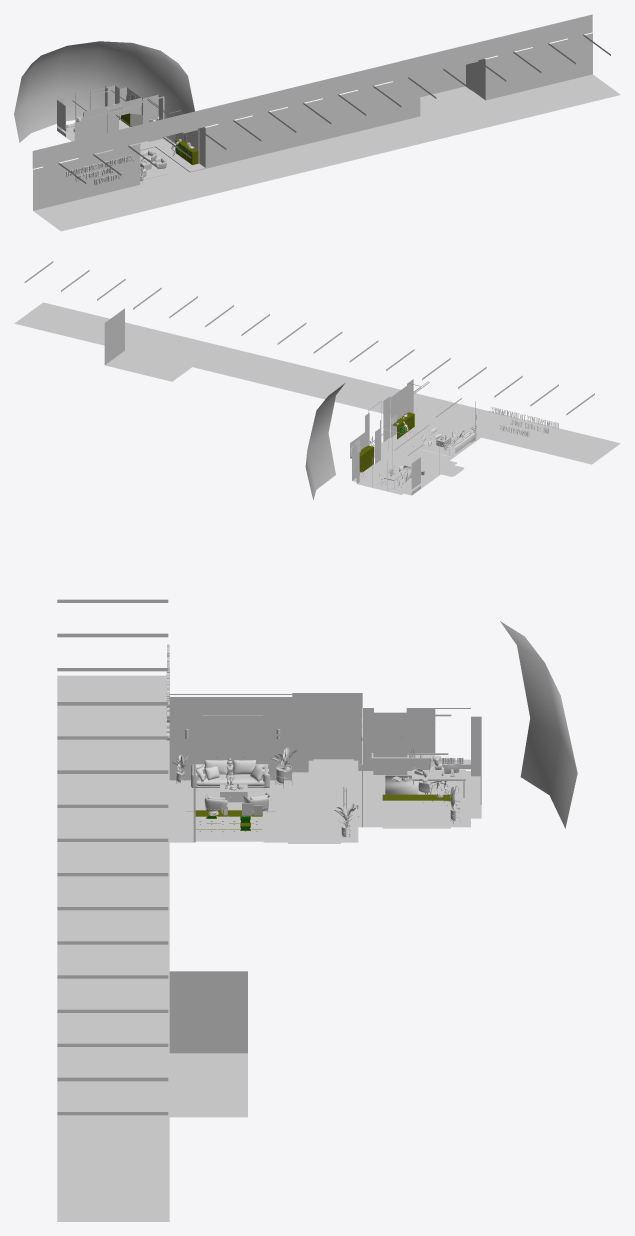
The model's file is Room_v1_1.glb.
3 renders of one model, top to bottom at view 1: azimuth 30°, elevation 25°; view 2: azimuth 150°, elevation 25°; view 3: azimuth 270°, elevation 25°, orthographic. The views are drawn at different scales.
Parts seen in each view (by area): view 1: Mat_3 Opaque_001, BG, Mat_1 Opaque_005, Mat_1 Opaque_004, Mat_3 Opaque_002, Mat_1 Alpha_001, Mat_2 Opaque_008, Mat_2 Opaque_026; view 2: Mat_3 Opaque_001, Mat_1 Opaque_004, Mat_1 Opaque_005, Mat_3 Opaque_002, Mat_2 Opaque_007; view 3: Mat_3 Opaque_001, Mat_1 Opaque_004, Mat_1 Opaque_005, Mat_2 Opaque_026, Mat_1 Opaque_002, Mat_2 Opaque_042, Mat_2 Opaque_007, Mat_2 Opaque_015.
Part boxes in pixels (bbox=[...]): Mat_3 Opaque_001: bbox=[33, 33, 620, 231]; BG: bbox=[32, 14, 592, 168]; Mat_1 Opaque_005: bbox=[14, 41, 194, 142]; Mat_1 Opaque_004: bbox=[57, 85, 205, 184]; Mat_3 Opaque_002: bbox=[66, 155, 133, 185]; Mat_1 Alpha_001: bbox=[84, 105, 141, 138]; Mat_2 Opaque_008: bbox=[175, 139, 198, 164]; Mat_2 Opaque_026: bbox=[57, 100, 83, 136]; Mat_3 Opaque_001: bbox=[14, 261, 620, 464]; Mat_1 Opaque_004: bbox=[350, 379, 480, 495]; Mat_1 Opaque_005: bbox=[305, 383, 344, 499]; Mat_3 Opaque_002: bbox=[489, 406, 558, 436]; Mat_2 Opaque_007: bbox=[420, 432, 465, 456]; Mat_3 Opaque_001: bbox=[57, 599, 247, 1221]; Mat_1 Opaque_004: bbox=[169, 693, 481, 843]; Mat_1 Opaque_005: bbox=[500, 621, 577, 828]; Mat_2 Opaque_026: bbox=[371, 712, 470, 774]; Mat_1 Opaque_002: bbox=[202, 715, 262, 751]; Mat_2 Opaque_042: bbox=[191, 760, 269, 787]; Mat_2 Opaque_007: bbox=[186, 782, 276, 811]; Mat_2 Opaque_015: bbox=[385, 770, 465, 797].
Bounding box in the file's own units: 65.16 × 10.23 × 26.22.
